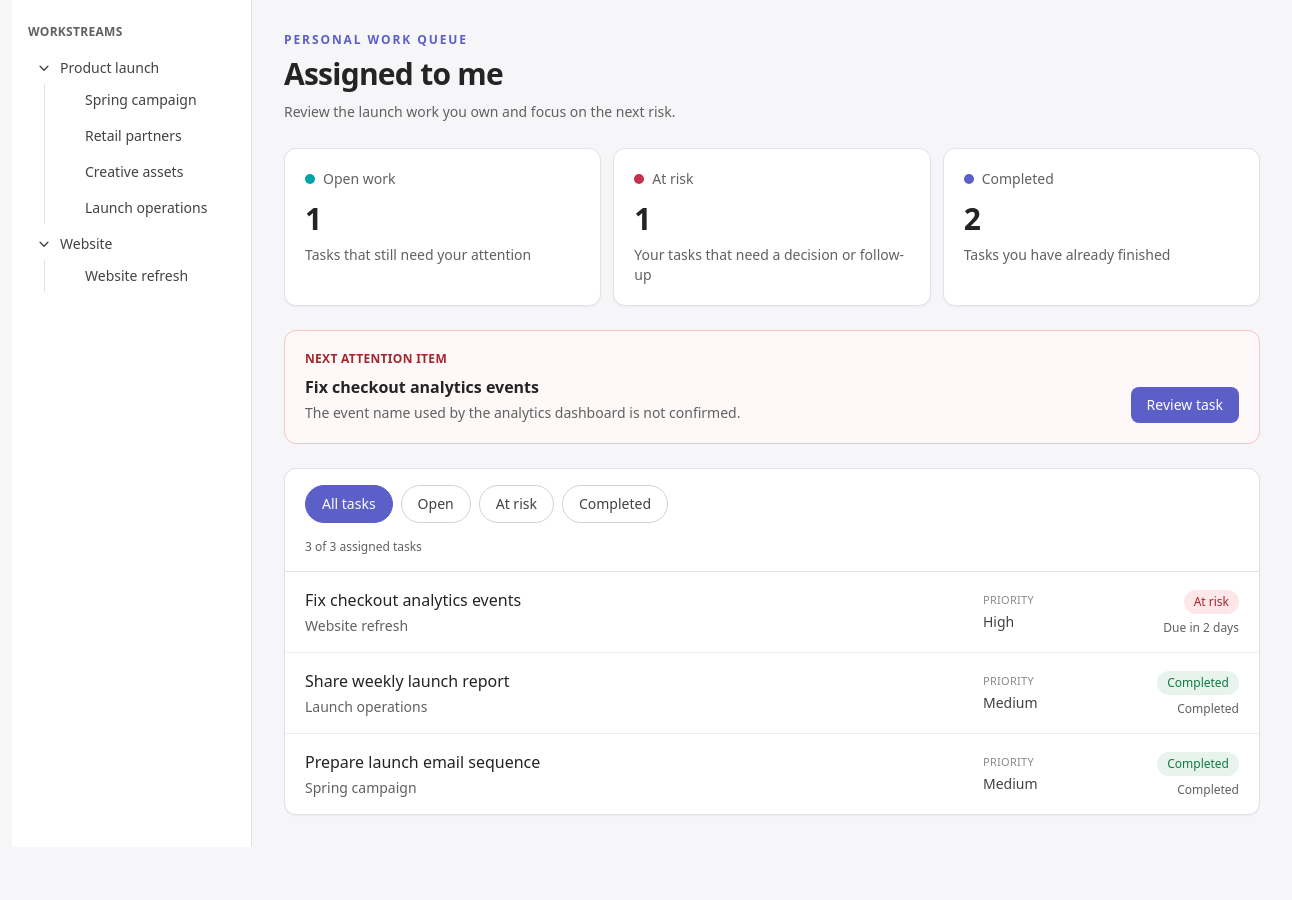
filters assigned work and keeps the selected filter in the URL
Expected: the text "3 of 3 assigned tasks" is shown, [305,538,422,555]
Click the button "At risk": (516, 504) [479,485,554,523]
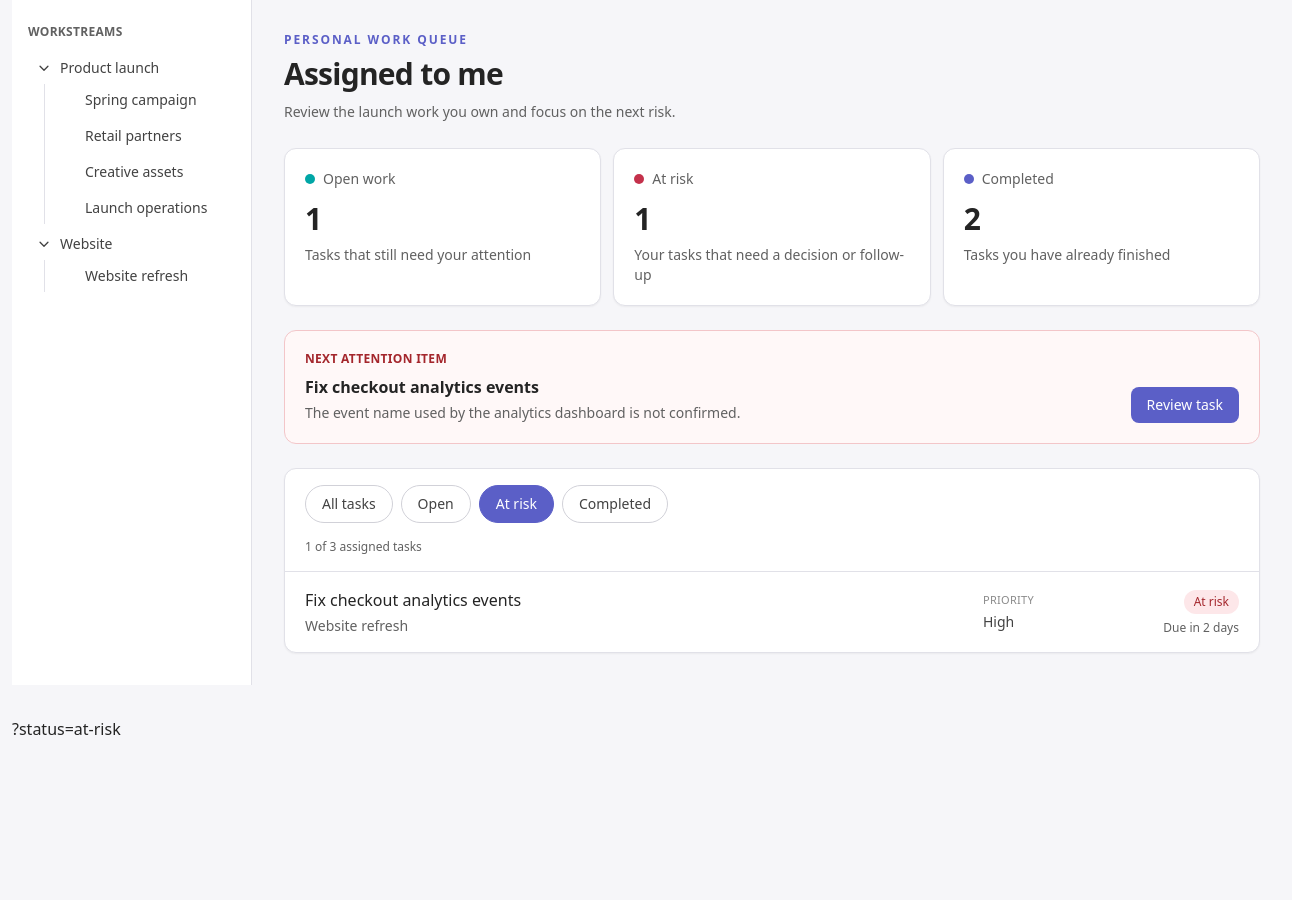
Now the text with test id "current-search" reads "?status=at-risk", box [12,718,121,740]
Now the text "1 of 3 assigned tasks" is shown, box [305,538,422,555]
Now the link "Prepare launch email sequence" is gone
